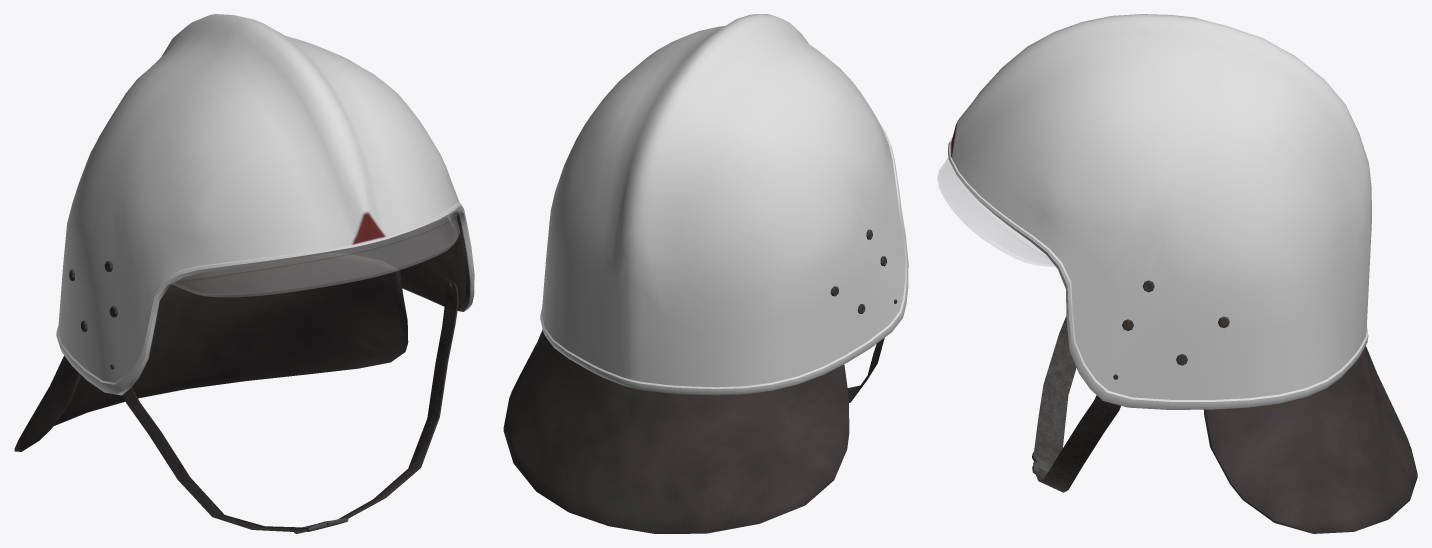
File: only_helmet.fbx
3 renders of one model, left to right at view 1: azimuth 30°, elevation 25°; view 2: azimuth 150°, elevation 25°; view 3: azimuth 270°, elevation 25°, orthographic. The views are drawn at different scales.
Visible parts, largest first — view 1: only_helmet; view 2: only_helmet; view 3: only_helmet.
Part boxes in pixels (x1,y1,x2,y2): only_helmet: [14, 14, 474, 533]; only_helmet: [503, 14, 908, 533]; only_helmet: [937, 14, 1417, 533].
Size of the model in its own units: 0.2336 by 0.2806 by 0.2644.
